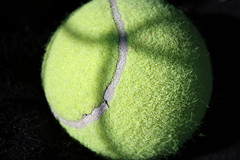tennis ball: (38, 1, 216, 160)
